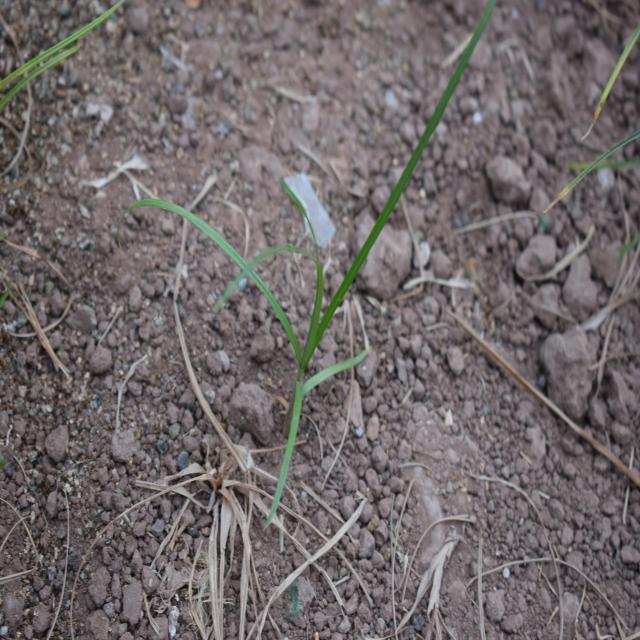sedge: (151, 56, 516, 491)
